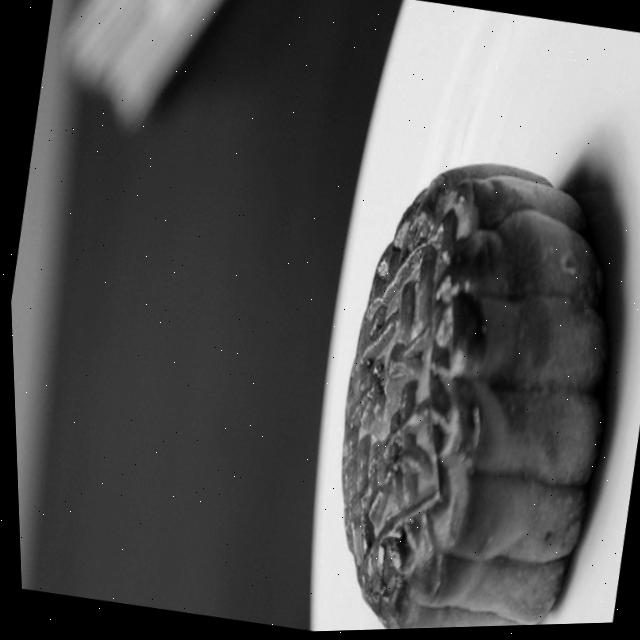蛋糕甜品: (274, 140, 640, 634)
